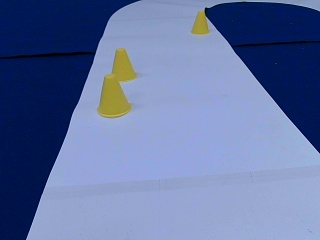cone: (97, 75, 131, 116), (110, 49, 136, 81), (190, 11, 208, 33)
